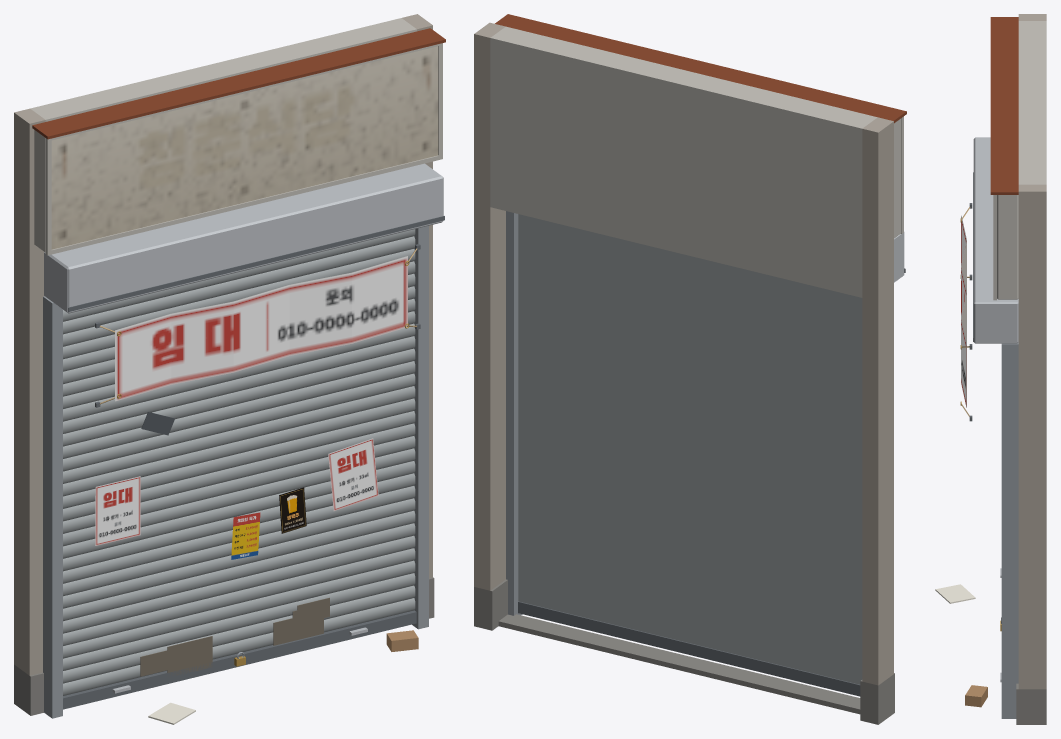
The model's file is SC_Shop_ForRent.gltf.
3 renders of one model, left to right at view 1: azimuth 30°, elevation 25°; view 2: azimuth 150°, elevation 25°; view 3: azimuth 270°, elevation 25°, orthographic. The views are drawn at different scales.
Visible parts, largest first — view 1: SC_Shop_ForRent; view 2: SC_Shop_ForRent; view 3: SC_Shop_ForRent.
Boxes of the visible parts, x1,y1,x2,y2 form: SC_Shop_ForRent: (14, 14, 445, 724); SC_Shop_ForRent: (474, 14, 906, 724); SC_Shop_ForRent: (935, 14, 1046, 724).
Bounding box in the file's own units: 3 × 4.2 × 0.7935.
Materials: 2 (2 with a texture image).
